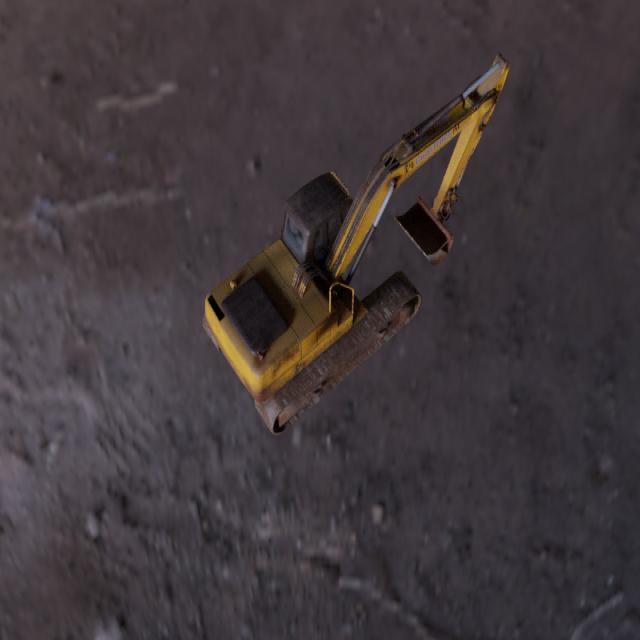excavator: (201, 51, 510, 434)
